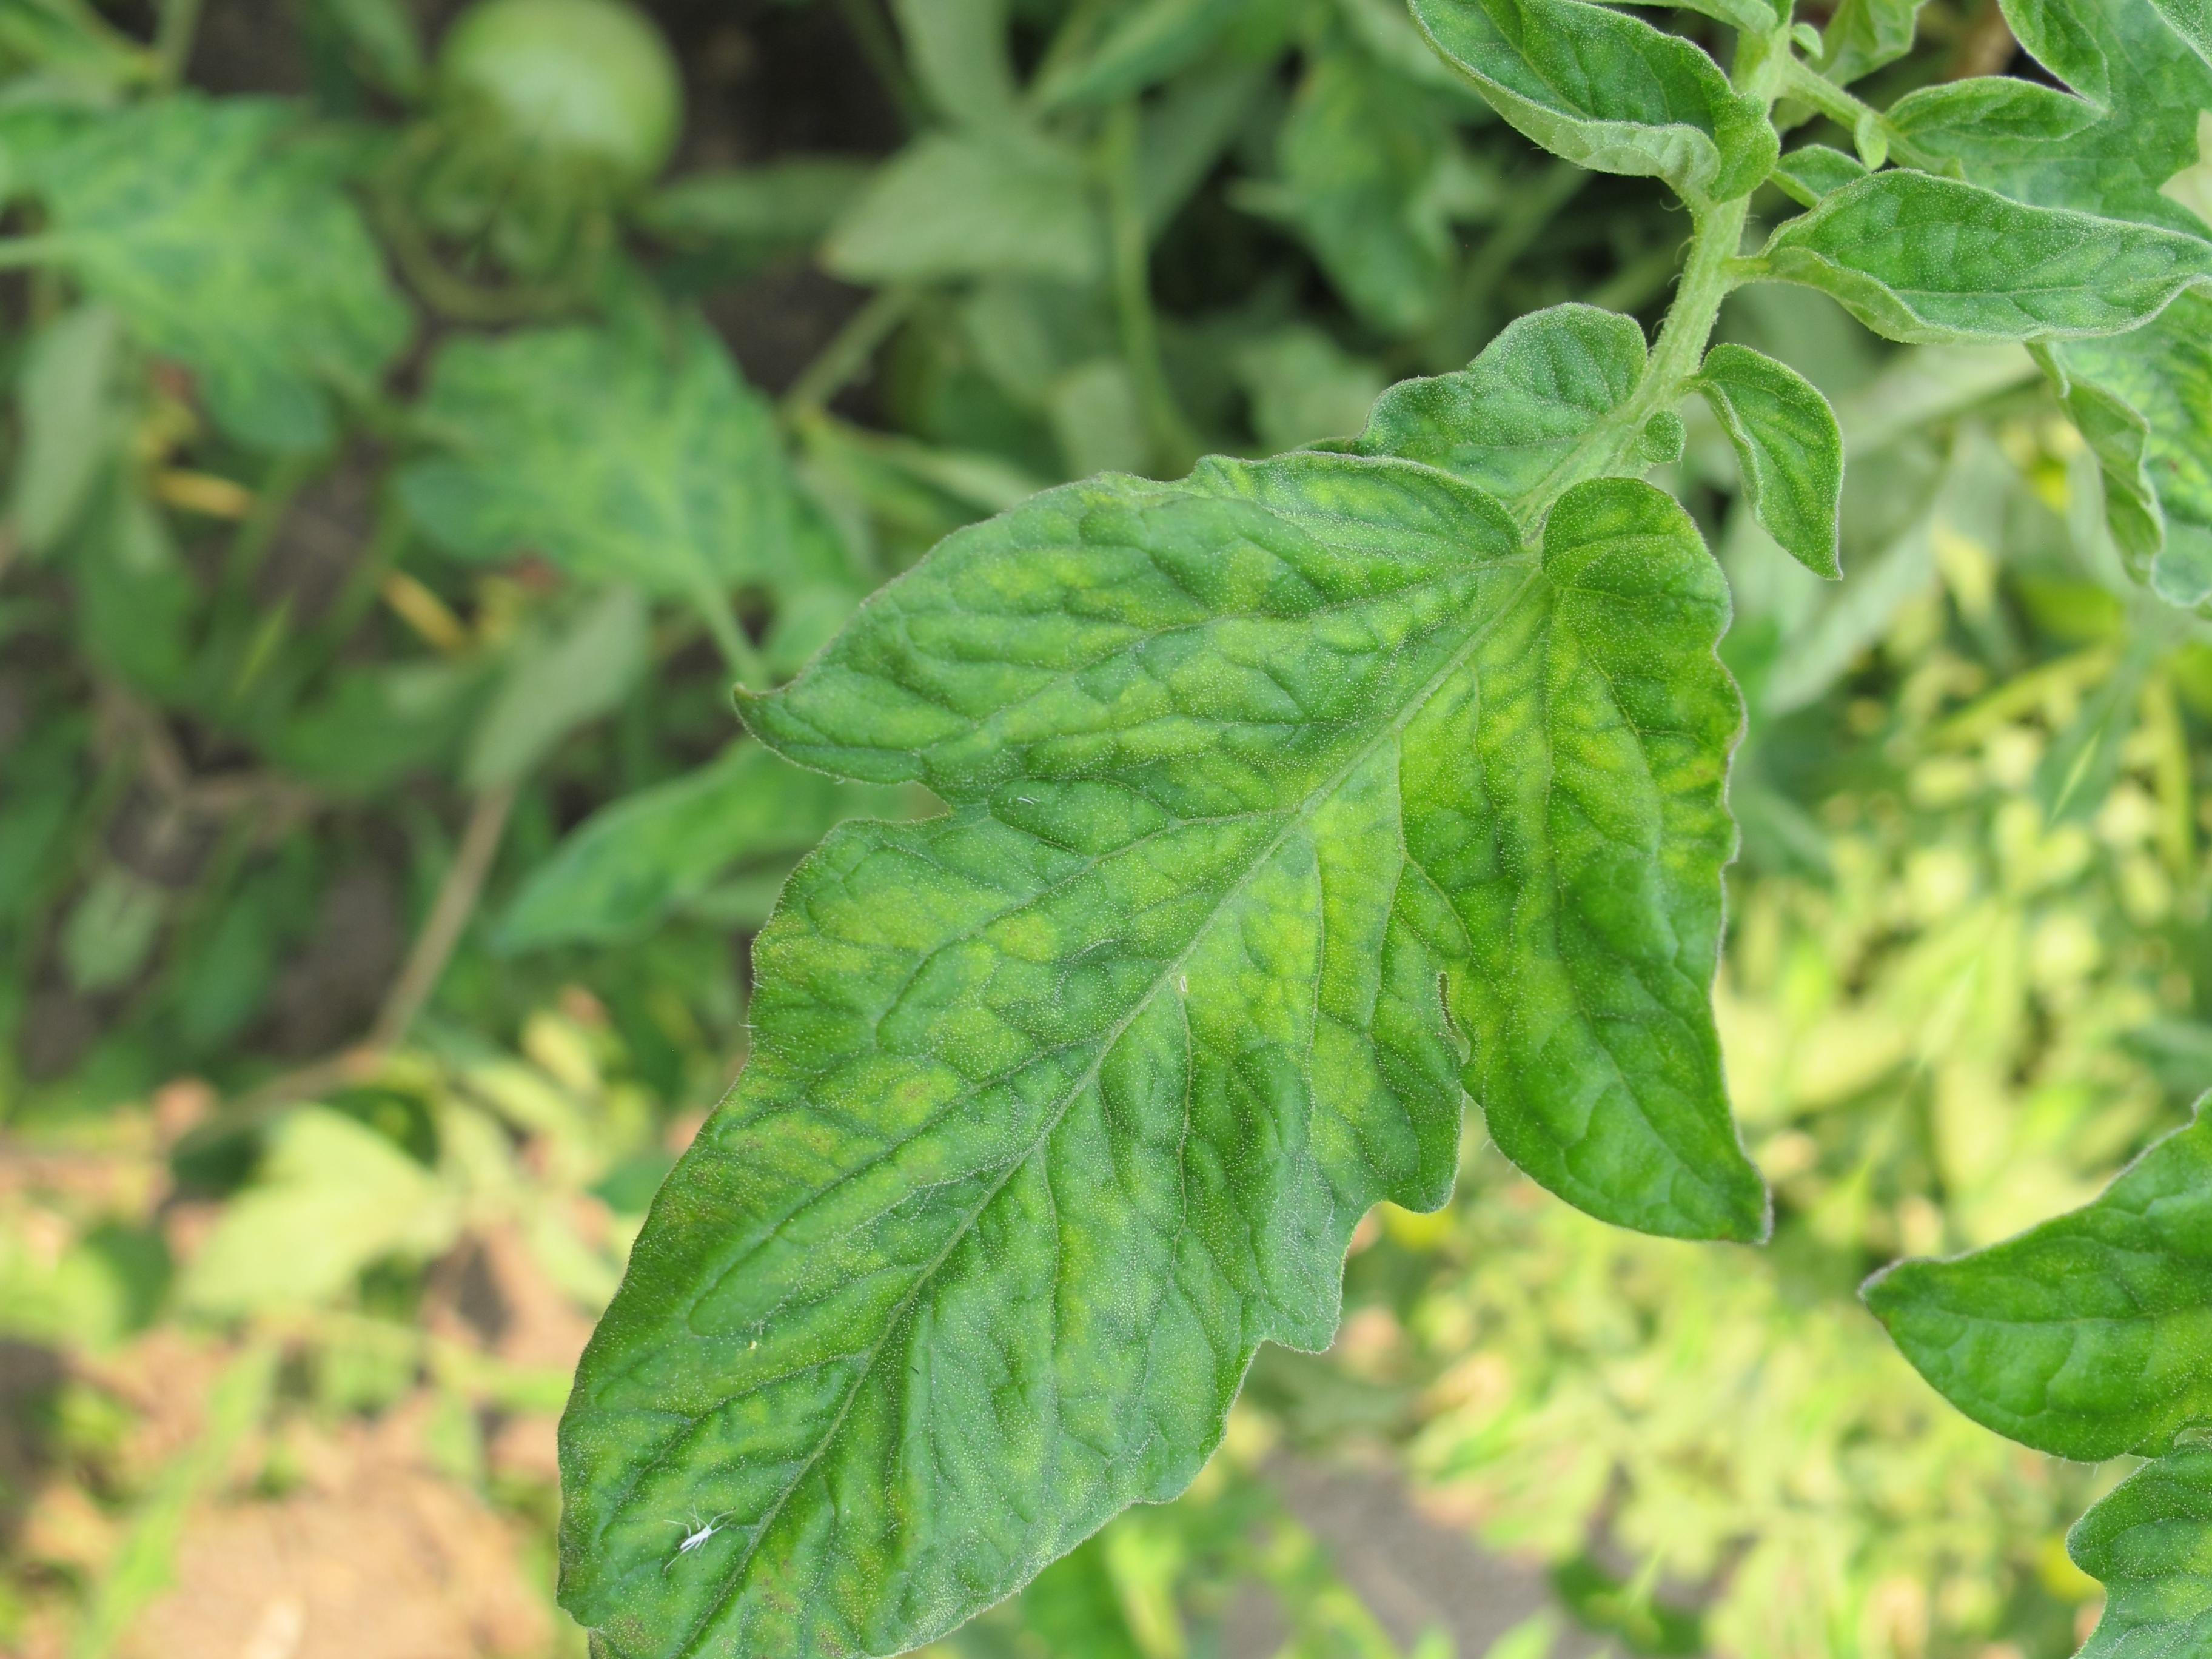Tomato leaf mosaic virus: (237, 0, 2097, 1659)
